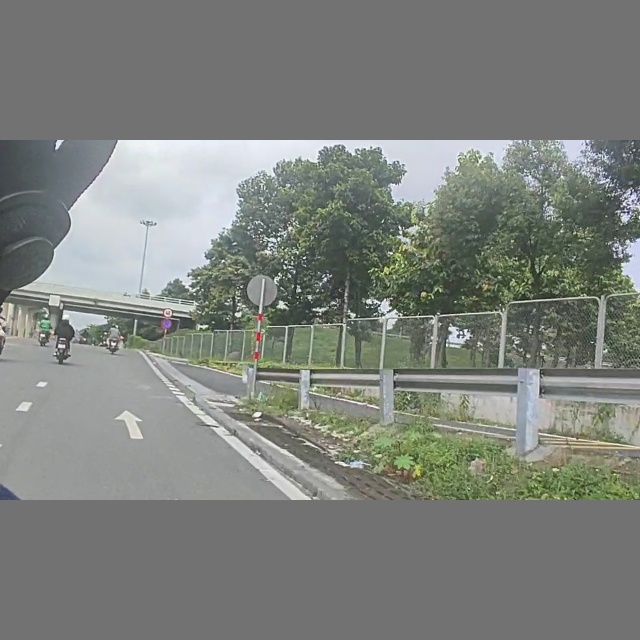P.127*40: (162, 308, 173, 317)
P.130: (161, 319, 172, 329)
